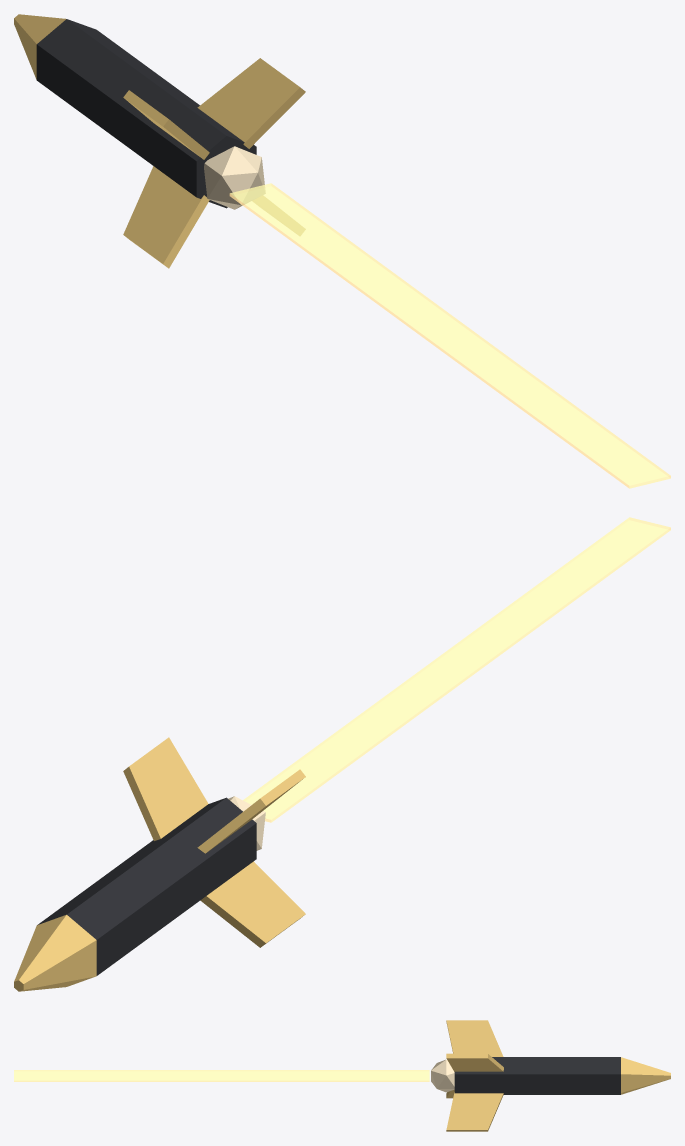
The model's file is Proj_AegisMissile.fbx.
3 renders of one model, top to bottom at view 1: azimuth 30°, elevation 25°; view 2: azimuth 150°, elevation 25°; view 3: azimuth 270°, elevation 25°, orthographic. The views are drawn at different scales.
Parts seen in each view (by area): view 1: Mis_Trail, Mis_Body.001, Mis_Fin0.001, Mis_Fin2.001, Mis_Exhaust, Mis_Nose, Mis_Fin1.001; view 2: Mis_Trail, Mis_Body.001, Mis_Fin0.001, Mis_Fin2.001, Mis_Nose, Mis_Fin1.001; view 3: Mis_Body.001, Mis_Trail, Mis_Fin3.001, Mis_Fin1.001, Mis_Nose, Mis_Fin0.001, Mis_Exhaust.
Part boxes in pixels (x1,y1,x2,y2): Mis_Trail: (229, 183, 670, 488); Mis_Body.001: (36, 19, 256, 208); Mis_Fin0.001: (197, 58, 305, 148); Mis_Fin2.001: (123, 166, 209, 268); Mis_Exhaust: (204, 146, 265, 209); Mis_Nose: (14, 14, 65, 79); Mis_Fin1.001: (123, 90, 209, 159); Mis_Trail: (243, 517, 670, 822); Mis_Body.001: (37, 797, 256, 975); Mis_Fin0.001: (123, 737, 208, 840); Mis_Fin2.001: (200, 861, 305, 947); Mis_Nose: (14, 914, 96, 991); Mis_Fin1.001: (197, 769, 305, 853); Mis_Body.001: (454, 1057, 620, 1094); Mis_Trail: (14, 1070, 429, 1081); Mis_Fin3.001: (446, 1092, 503, 1131); Mis_Fin1.001: (446, 1020, 503, 1056); Mis_Nose: (621, 1057, 670, 1094); Mis_Fin0.001: (446, 1053, 503, 1071); Mis_Exhaust: (431, 1059, 454, 1092).
Bounding box in the file's own units: 0.1032 × 0.1032 × 0.79.
